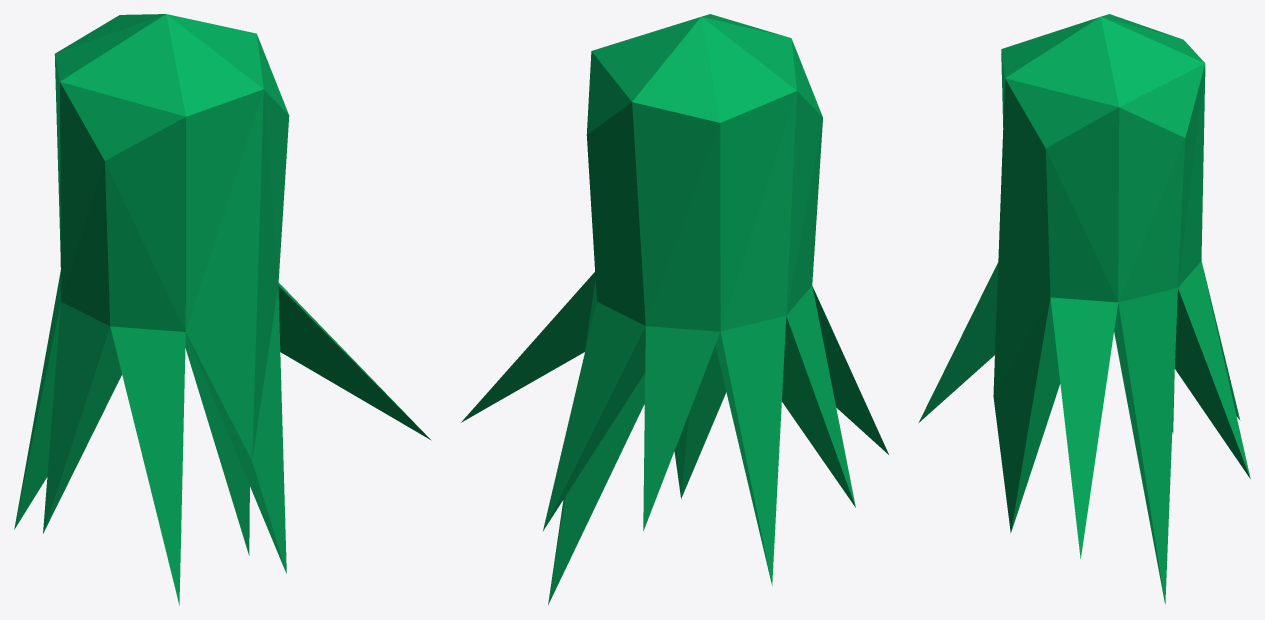
The model's file is SeguaroCactusSmall_LOD1.fbx.
3 renders of one model, left to right at view 1: azimuth 30°, elevation 25°; view 2: azimuth 150°, elevation 25°; view 3: azimuth 270°, elevation 25°, orthographic. The views are drawn at different scales.
Visible parts, largest first — view 1: SeguaroCactusSmall_LOD1; view 2: SeguaroCactusSmall_LOD1; view 3: SeguaroCactusSmall_LOD1.
Part boxes in pixels (x1=…): SeguaroCactusSmall_LOD1: x1=14, y1=14, x2=431, y2=605; SeguaroCactusSmall_LOD1: x1=461, y1=14, x2=888, y2=605; SeguaroCactusSmall_LOD1: x1=918, y1=14, x2=1250, y2=604.
Size of the model in its own units: 36.75 by 65.48 by 45.19.
